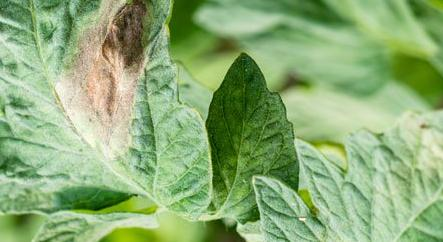Tomato leaf late blight: (0, 0, 218, 242), (252, 100, 443, 242)
